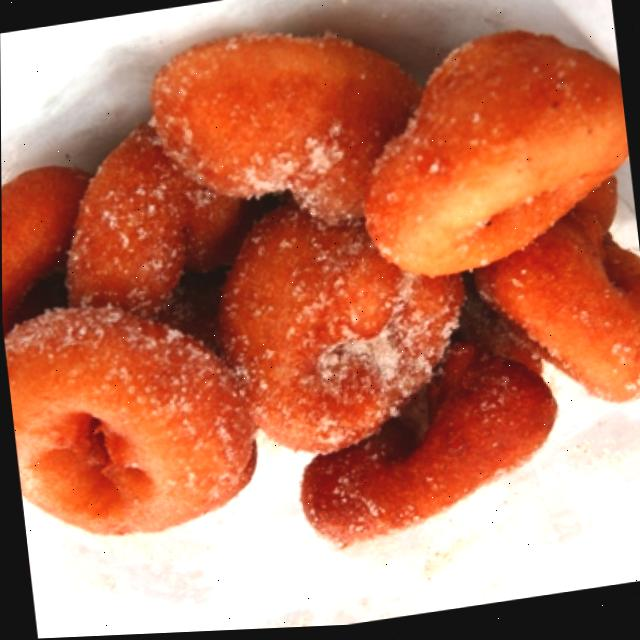炸货点心: (0, 0, 640, 635)
